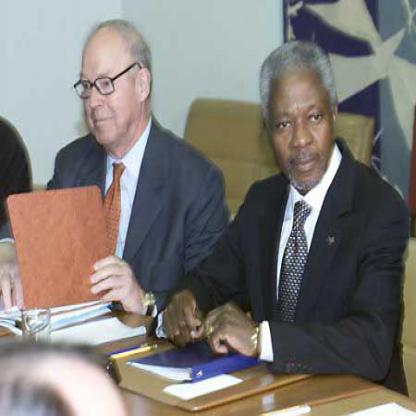face: (268, 55, 334, 192), (79, 27, 142, 150)
